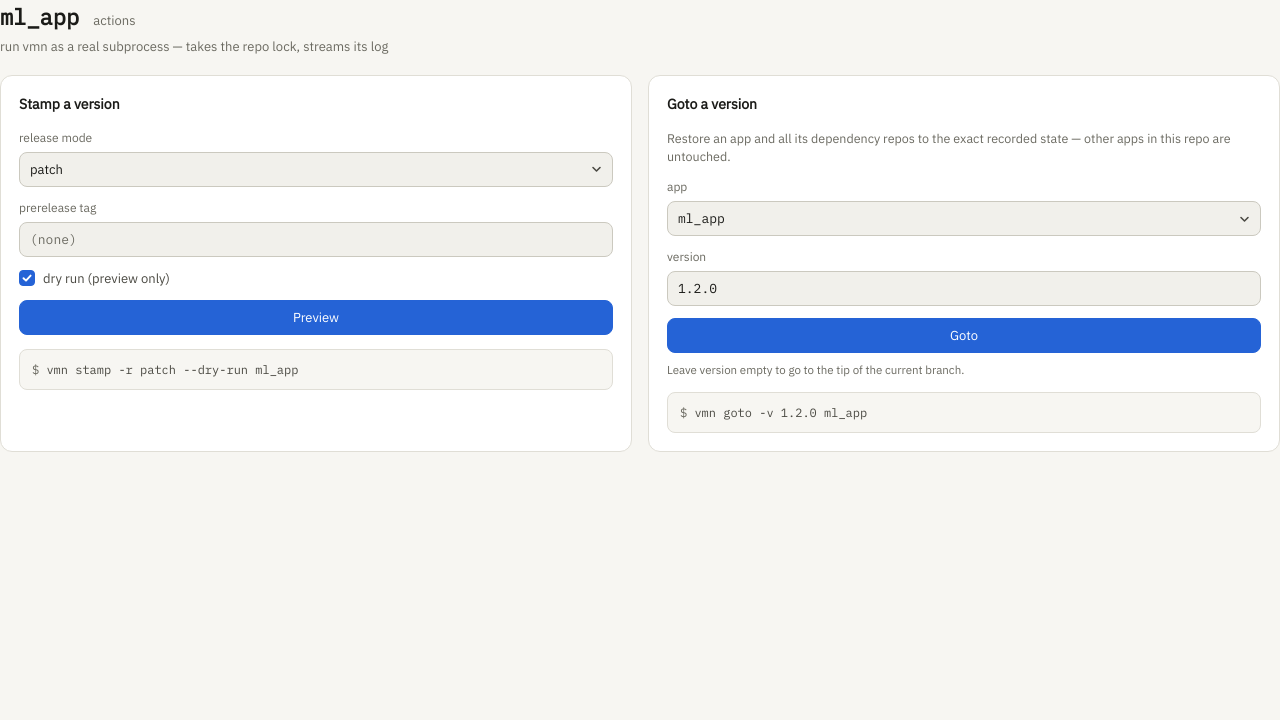
it: Actions goto confirmation › cancelling runs nothing and closes the dialog
Click the button "Goto".
click(964, 336)  # box [667,318,1261,353]
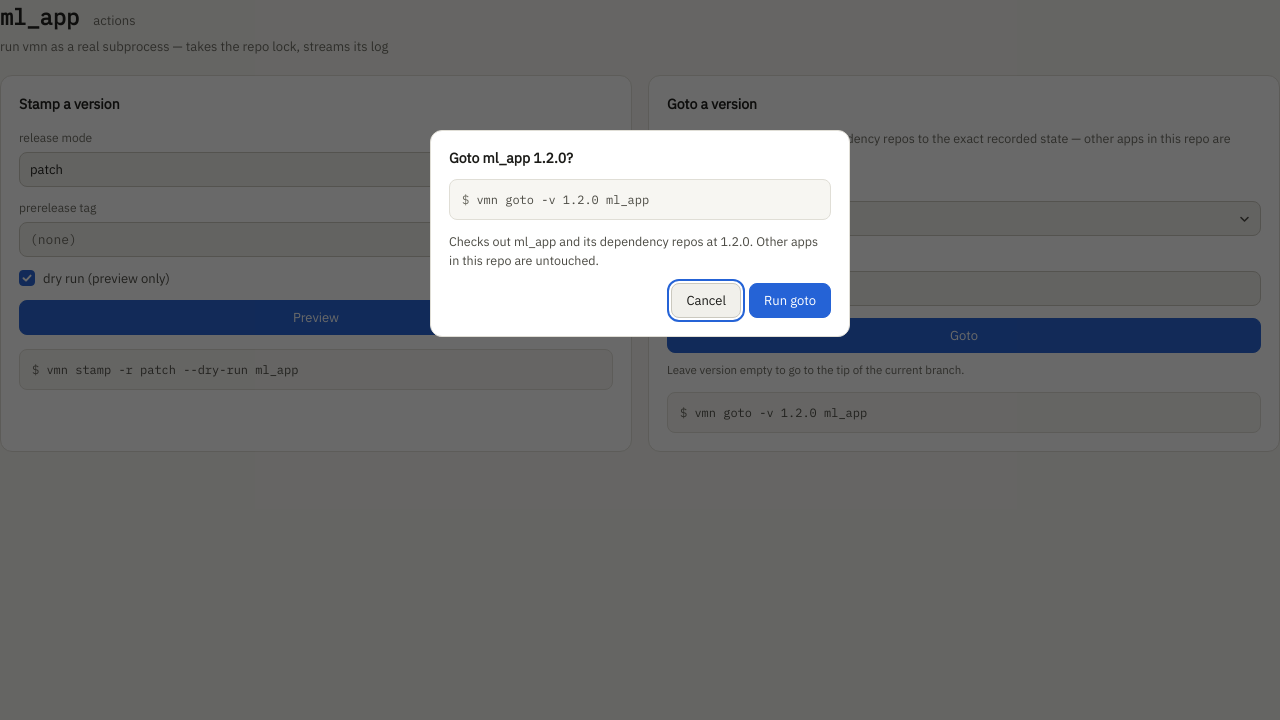
Click the button "Cancel".
click(706, 301)  # box [671,284,741,318]
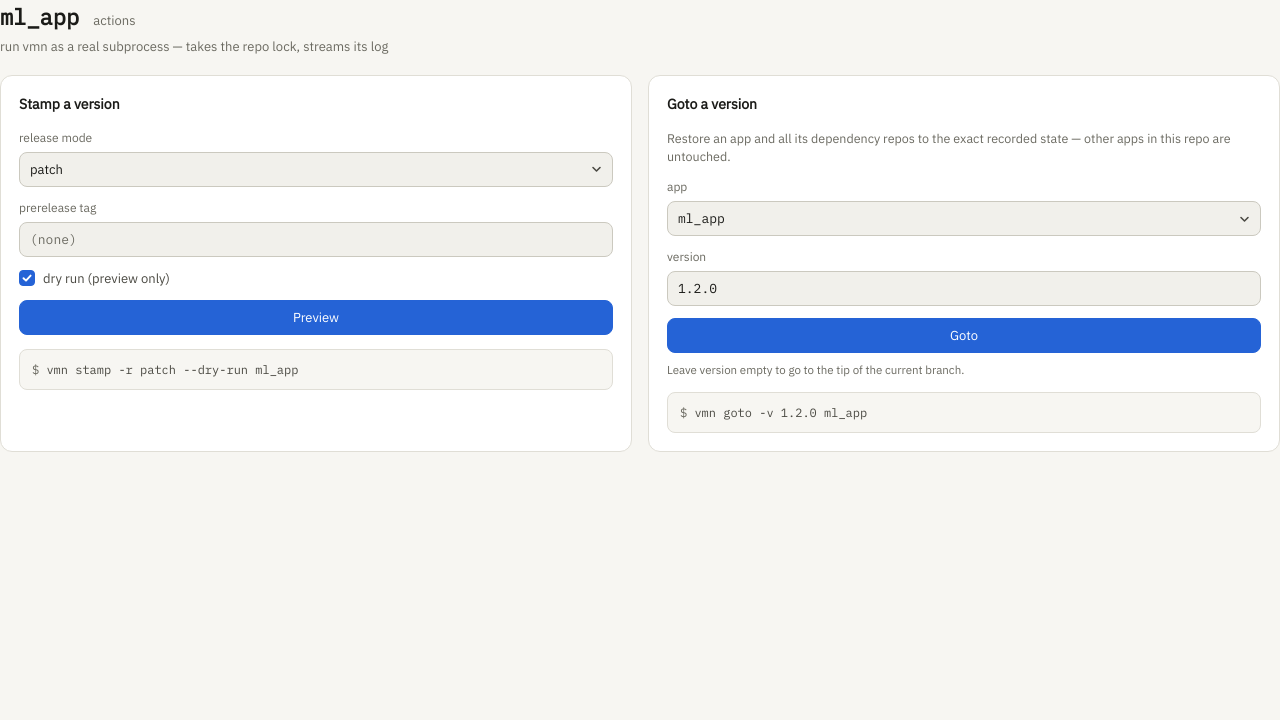
Result: the dialog is gone
